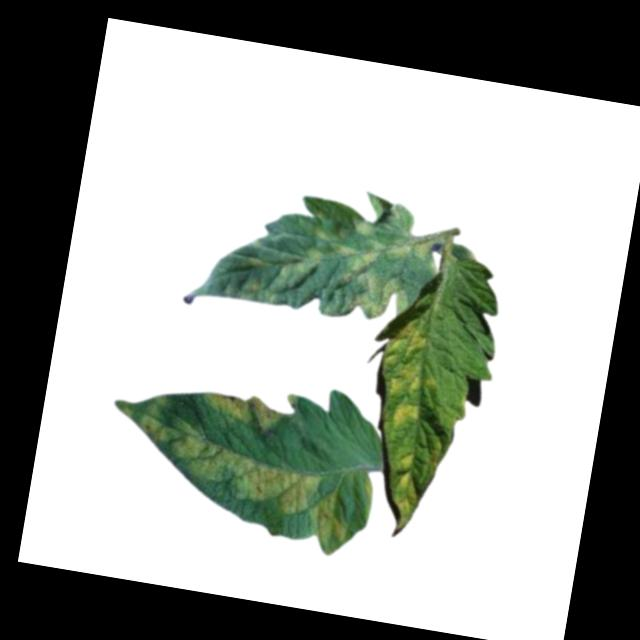Leaf_Mold: (122, 392, 365, 554), (338, 228, 435, 325), (199, 388, 282, 437), (384, 449, 426, 539), (383, 358, 440, 403), (381, 316, 431, 364), (282, 240, 323, 284), (385, 395, 423, 436), (330, 242, 353, 261)
